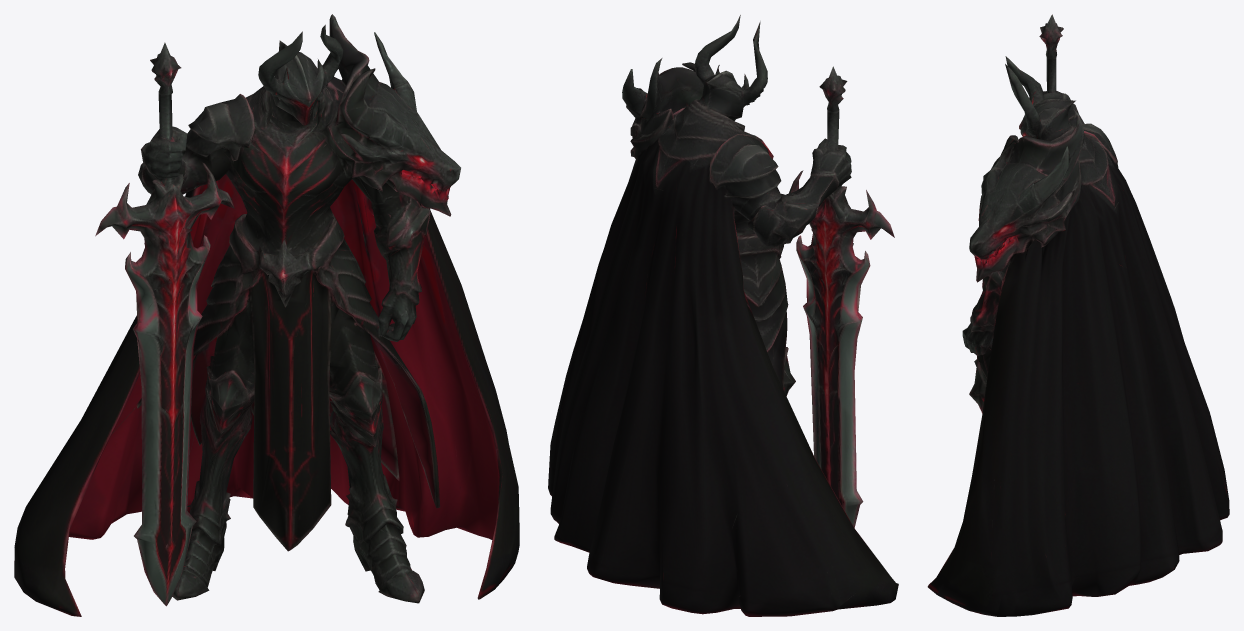
The model's file is dragon_nemesis__the_infernal_wyrm.glb.
The picture shows the model from 3 angles, left to right: view 1: azimuth 30°, elevation 25°; view 2: azimuth 150°, elevation 25°; view 3: azimuth 270°, elevation 25°; orthographic projection. The views are drawn at different scales.
Parts seen in each view (by area): view 1: Object_4; view 2: Object_4; view 3: Object_4.
Boxes of the visible parts, x1=… form: Object_4: x1=14, y1=14, x2=519, y2=616; Object_4: x1=548, y1=15, x2=898, y2=616; Object_4: x1=927, y1=14, x2=1229, y2=616.
Bounding box in the file's own units: 1.5 × 1.91 × 1.09.
Materials: 1 (1 with a texture image).
